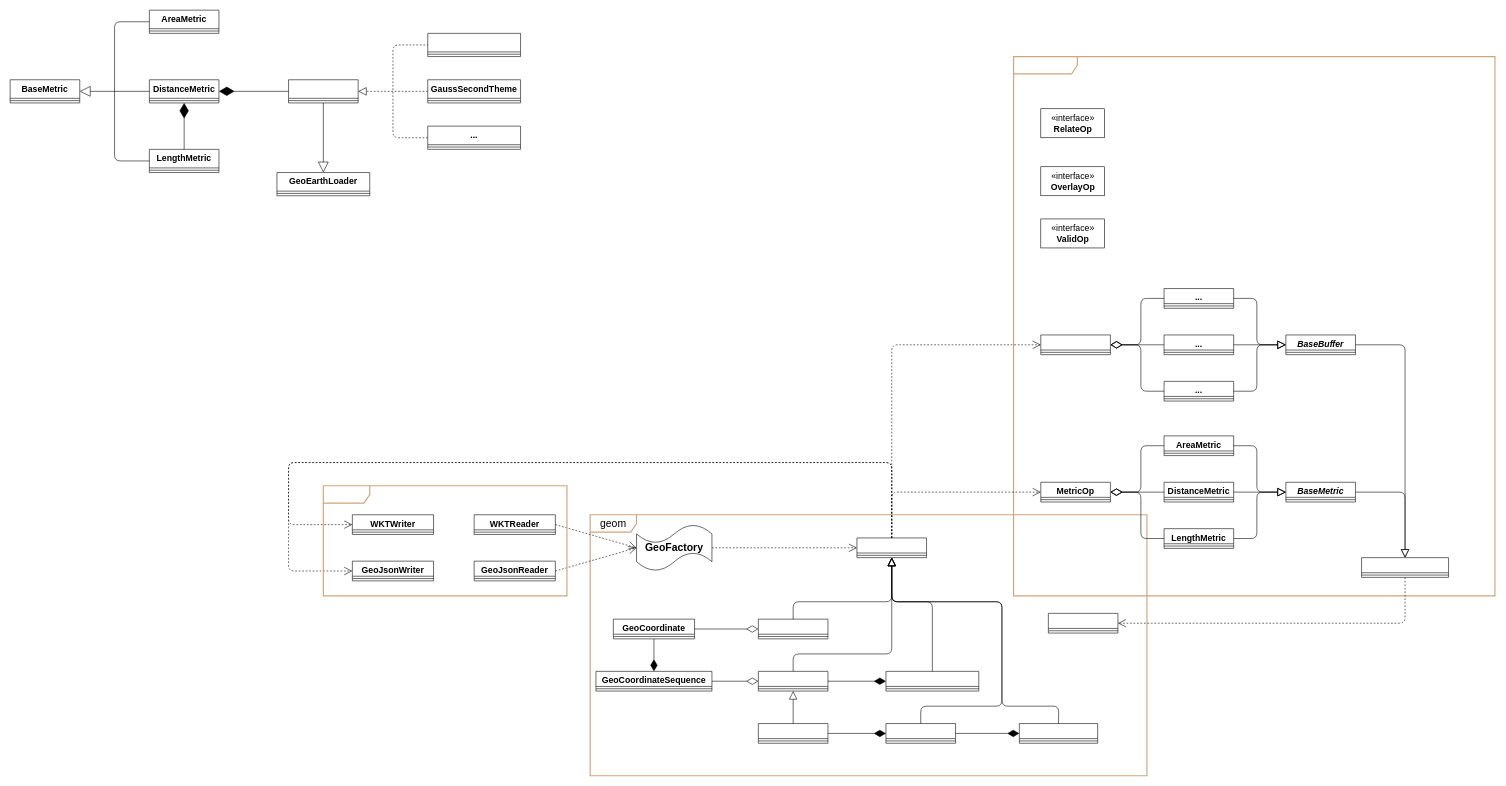
Image size: 1506x786. Some labels were removed from this diagram. Here are the shapes that lost their labels. From the top down, the box of each, then its label:
(427, 33, 521, 57): BesselSecondTheme
(288, 79, 358, 103): SecondTheme
(1040, 334, 1110, 355): BufferOp
(1013, 56, 1495, 596): operation
(322, 485, 567, 596): io
(856, 537, 927, 558): GeoGeometry
(1361, 557, 1449, 577): BaseEarthLoader
(758, 619, 828, 639): GeoPoint
(1048, 613, 1118, 633): GeoEarth
(758, 671, 828, 691): GeoLineString
(885, 671, 979, 691): GeoMultiLineString
(758, 723, 828, 743): GeoLinearRing
(885, 723, 956, 743): GeoPolygon
(1019, 723, 1098, 743): GeoMultiPolygon
